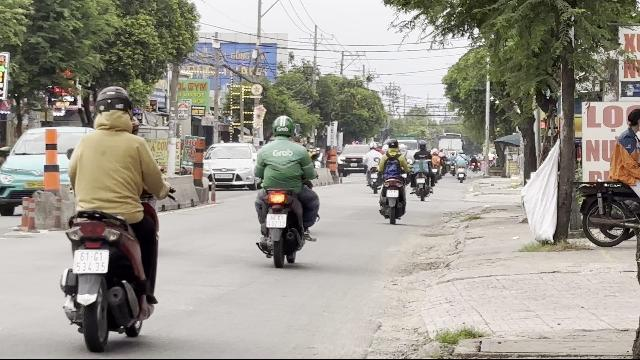helmet: (91, 85, 135, 131), (271, 116, 295, 138)
licenseplate: (72, 249, 108, 273), (267, 213, 287, 227)
motorcyclist: (57, 82, 175, 350), (251, 114, 321, 266)
